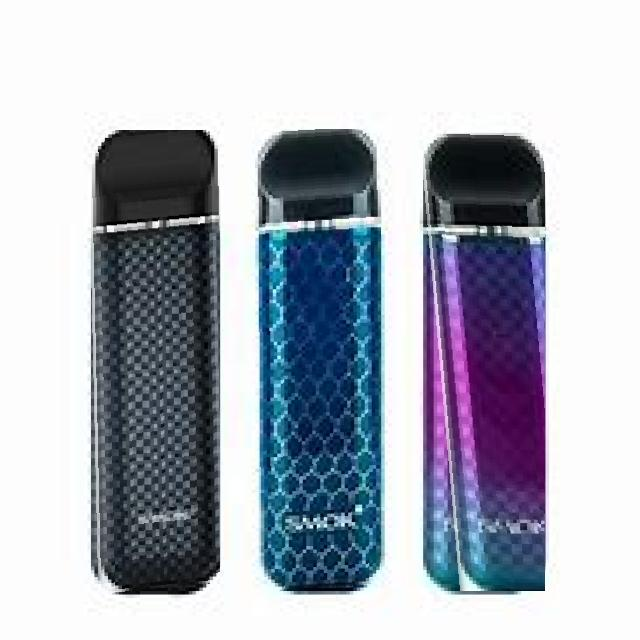Vapes: (88, 130, 220, 594), (420, 129, 546, 591), (256, 129, 382, 591)
